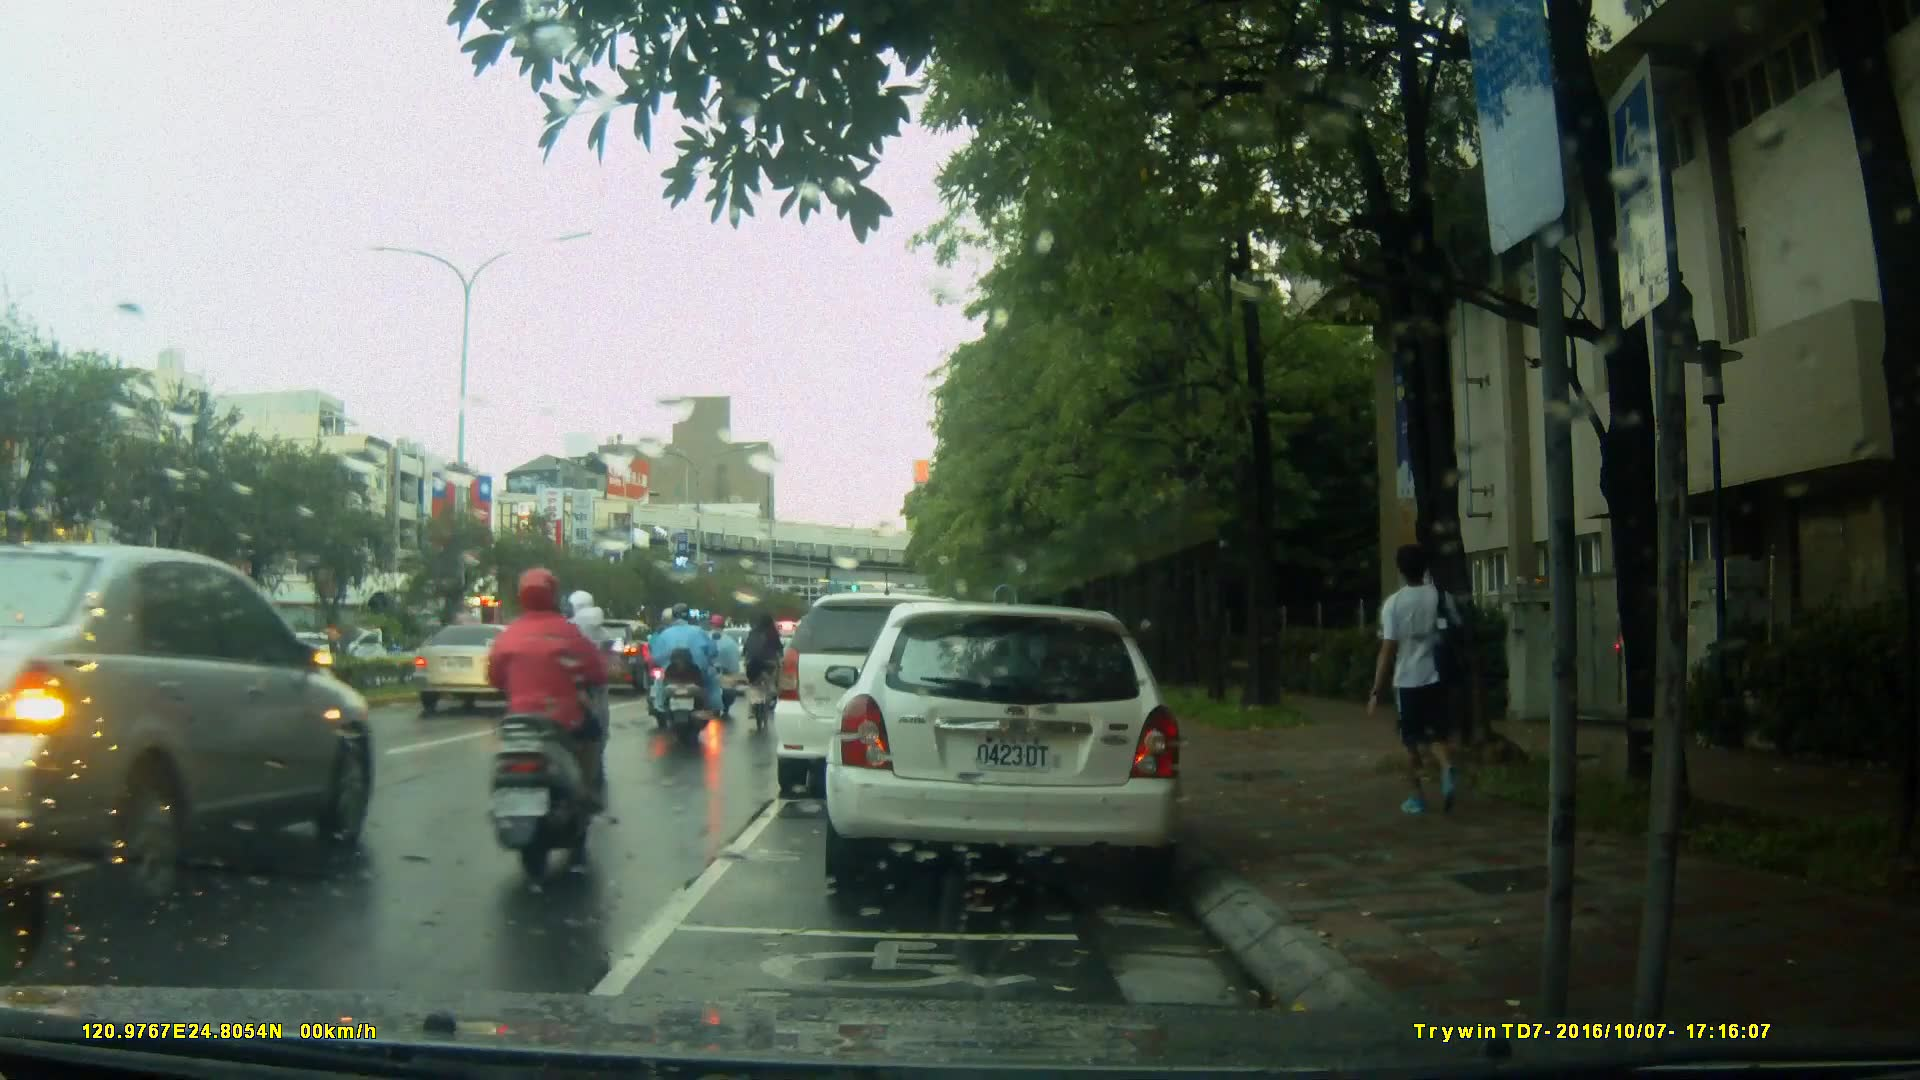pedestrian: (1380, 533, 1483, 843)
rider: (486, 570, 610, 875), (538, 598, 616, 786), (651, 606, 717, 750), (747, 607, 790, 743), (697, 610, 746, 715)
vehicle: (4, 539, 378, 928), (822, 604, 1188, 882), (774, 595, 995, 802), (412, 621, 556, 717)
